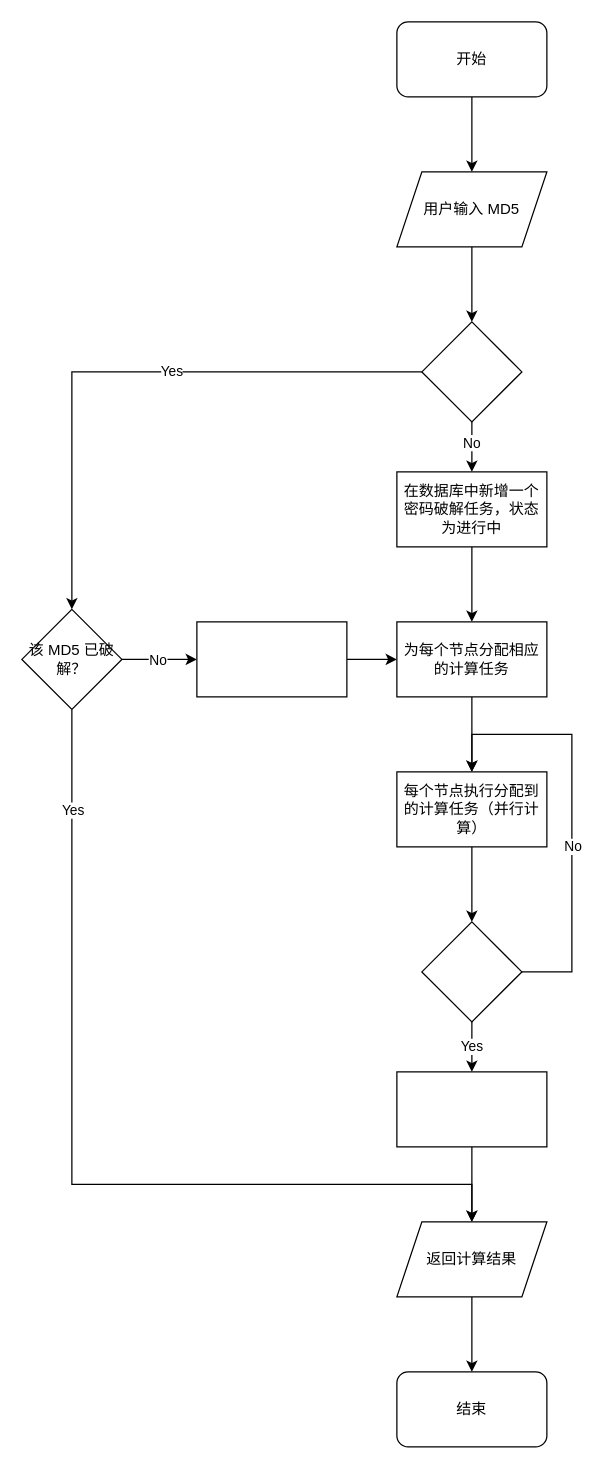
Image size: 604x1469. Some labels were removed from this diagram. The shapes that lost their labels are listed below. From the top down, each one's centre as x and y in pixels, then its label:
At point 471,371: "任务列表中有该 MD5？".
At point 271,659: "在数据库中更新该密码破解任务的状态为进行中".
At point 471,971: "所有计算执行完成？".
At point 471,1109: "在数据库中更新该密码破解任务的状态为已完成".
